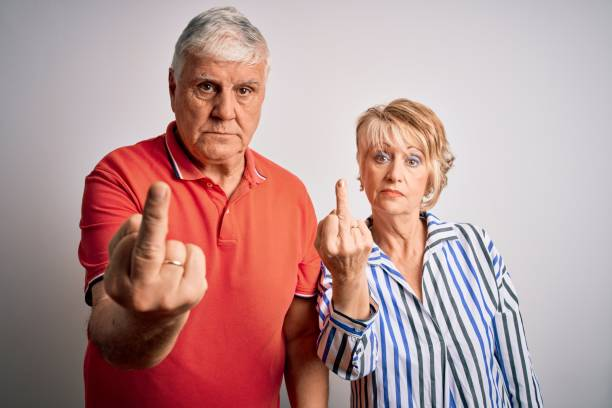insulting_gesture: (103, 182, 208, 321), (316, 177, 372, 282)
